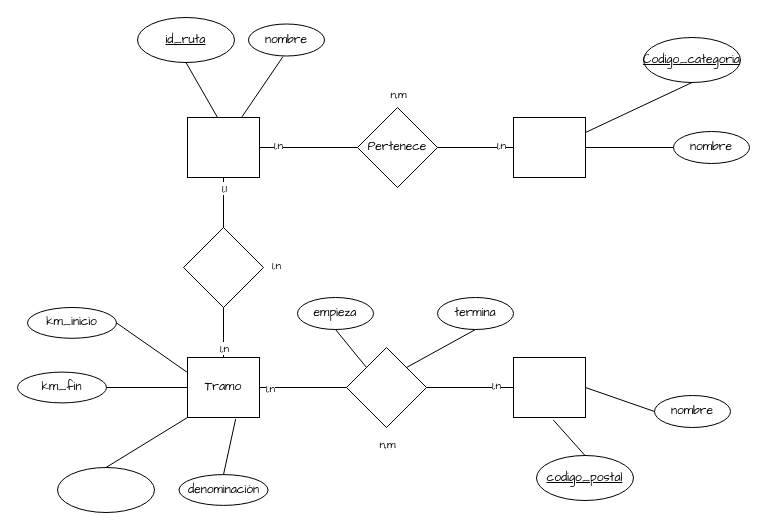
The diagram is 767 pixels wide and 530 high, and some of its shapes have lost their labels. The shapes that lost their labels are listed below. From the top down, each one's centre as x and y in pixels, then its label:
At point (223, 147): "Ruta".
At point (549, 147): "Categoría".
At point (223, 267): "Tiene".
At point (386, 387): "Pasa".
At point (549, 387): "Ciudad".
At point (105, 489): "id_tramo".
